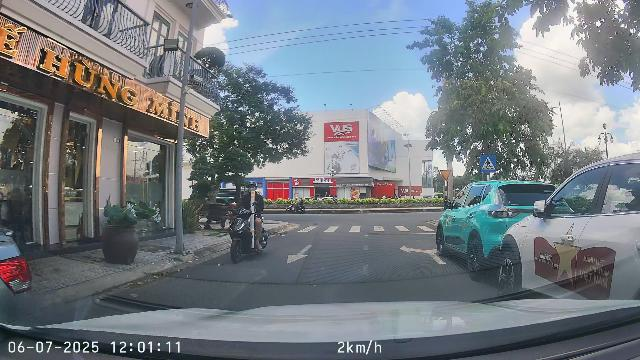208-giao-nhau-voi-duong-uu-tien: (440, 170, 452, 180)
423a-duong-nguoi-di-bo-sang-ngang-1: (481, 155, 496, 173)
